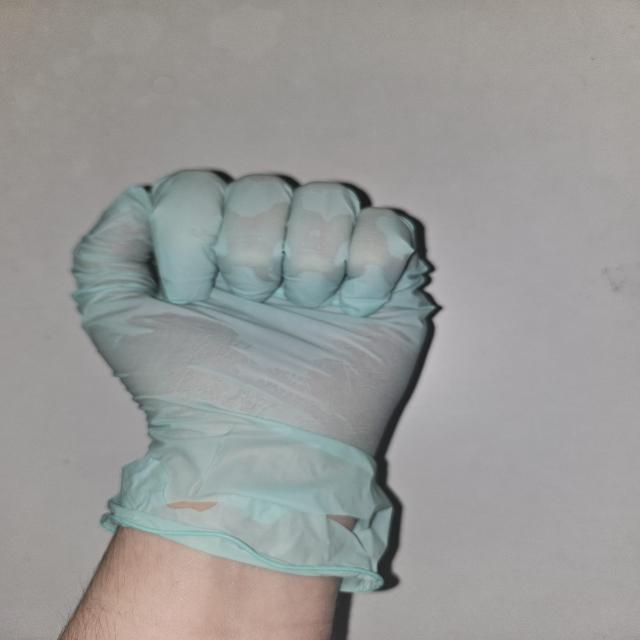gloves_damaged: (67, 166, 440, 592)
